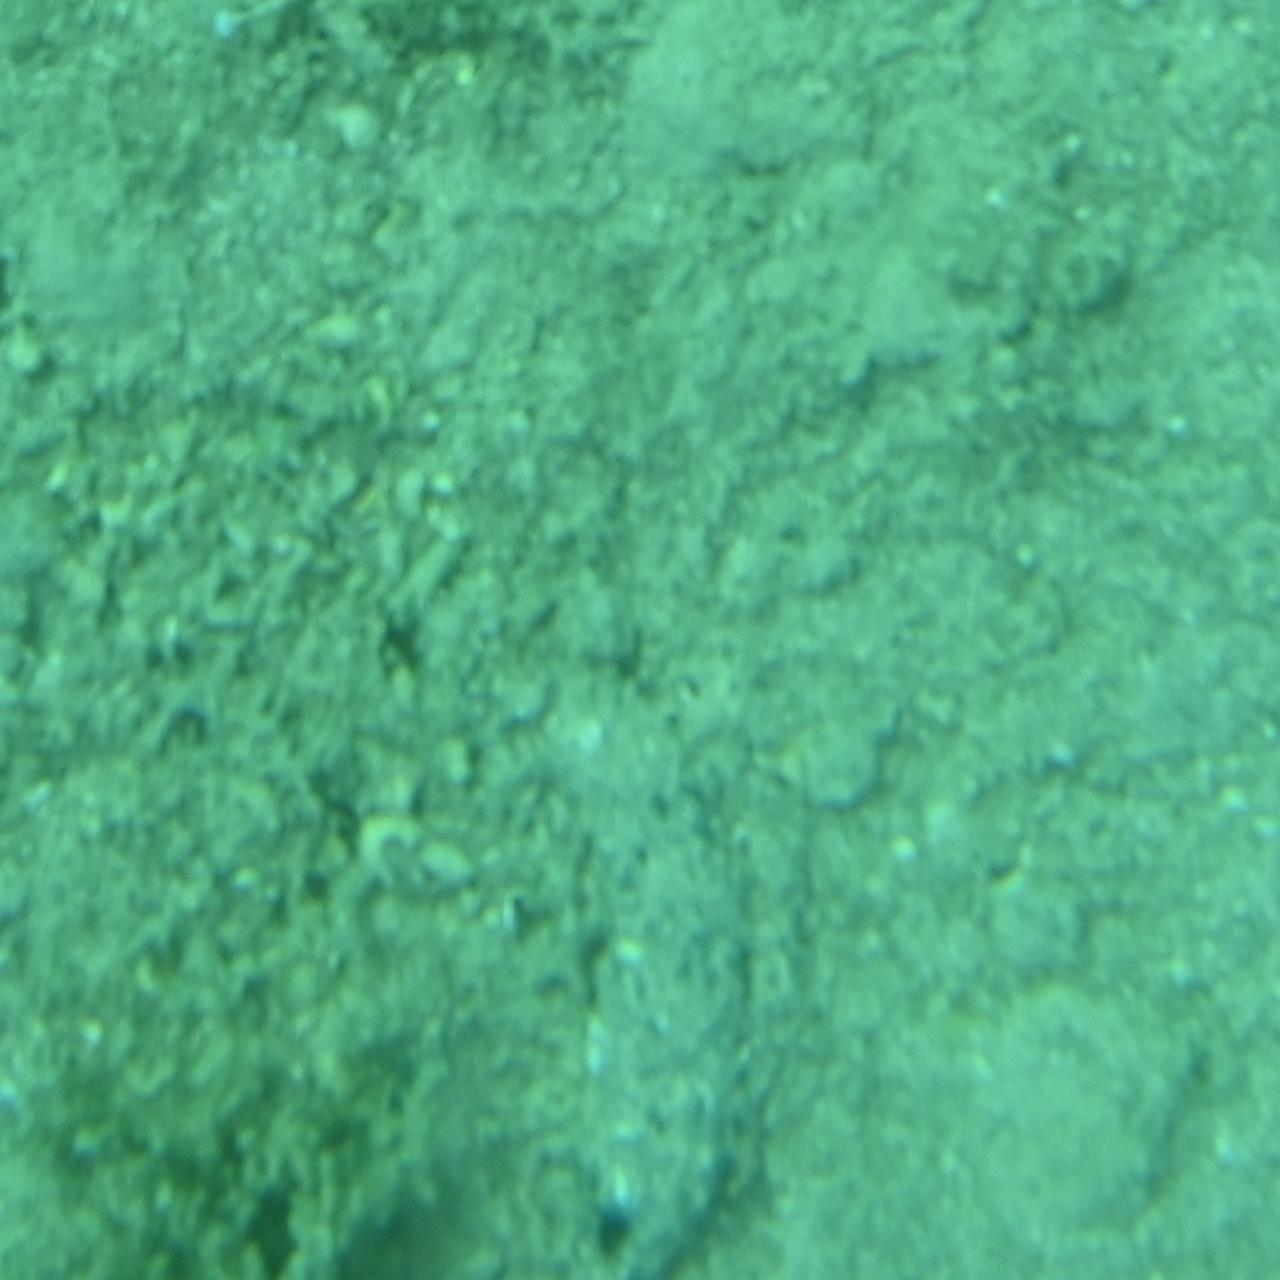Holothuria tubulosa: (518, 651, 762, 1279)
